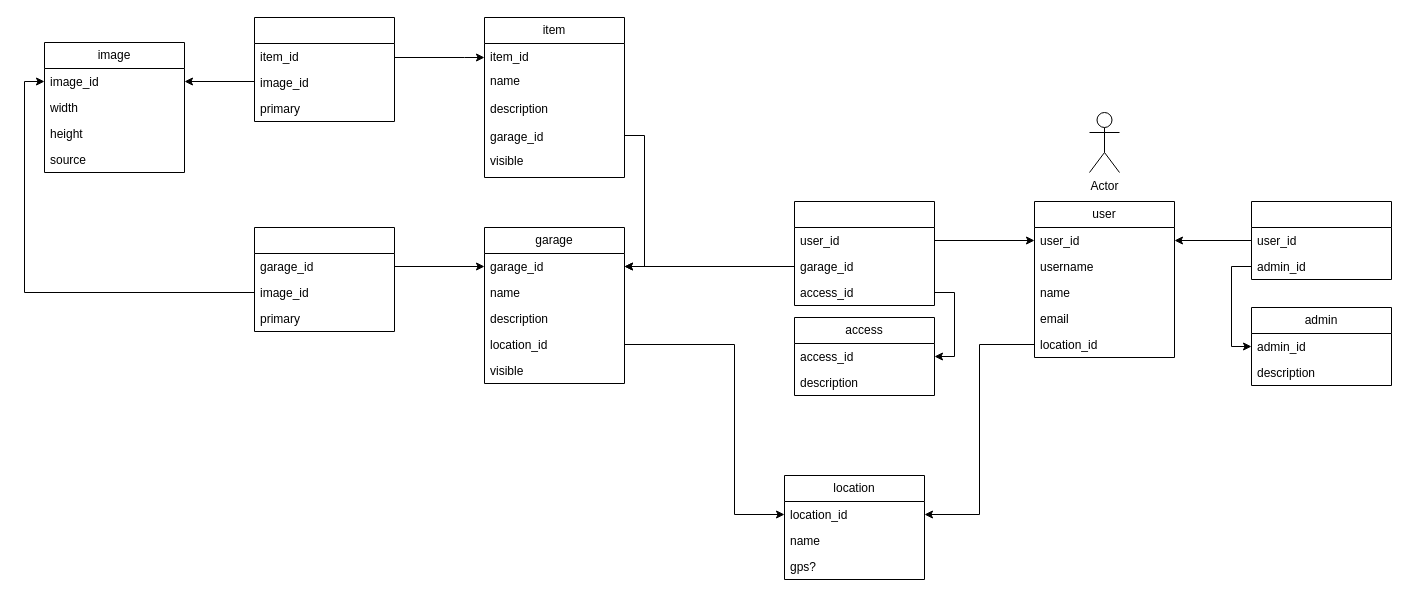
This 1409x600 diagram has some shape labels left out. The shapes that lost their labels are listed below. From the top down, each one's box as (x1, y1, x2, y2) in pixels, then its label:
(254, 16, 394, 122): item_image
(794, 200, 934, 306): user_garage_access
(1250, 200, 1392, 280): user_admin
(254, 226, 394, 332): garage_image
